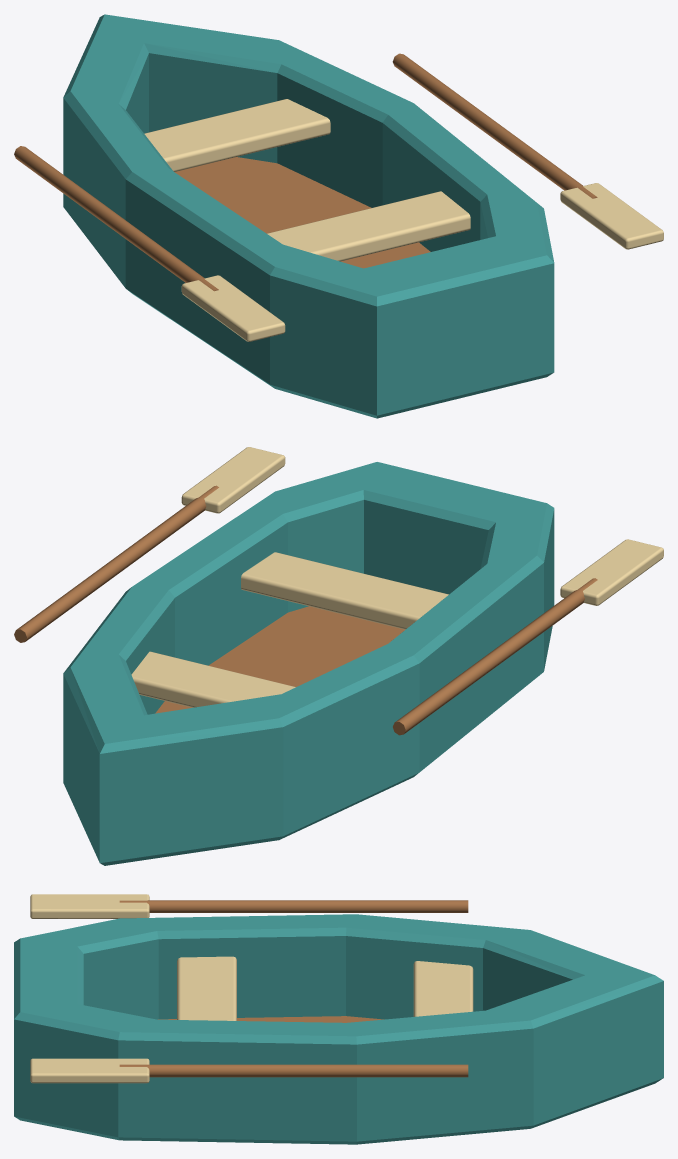
The model's file is harbor-rowboat.glb.
3 views of the same model, one above another, from view 1: azimuth 30°, elevation 25°; view 2: azimuth 150°, elevation 25°; view 3: azimuth 270°, elevation 25° (orthographic). The views are drawn at different scales.
Visible parts, largest first — view 1: teal-hull, hull-floor, seat-0.4, seat--0.55, oar-shaft--0.78, oar-shaft-0.78, oar-blade--0.78, oar-blade-0.78; view 2: teal-hull, hull-floor, seat-0.4, seat--0.55, oar-shaft-0.78, oar-shaft--0.78, oar-blade-0.78, oar-blade--0.78; view 3: teal-hull, oar-shaft-0.78, oar-shaft--0.78, seat-0.4, seat--0.55, oar-blade-0.78, oar-blade--0.78, hull-floor.
Part boxes in pixels (x1=…): teal-hull: x1=63, y1=14, x2=554, y2=418; hull-floor: x1=174, y1=157, x2=430, y2=268; seat-0.4: x1=267, y1=191, x2=470, y2=261; seat--0.55: x1=144, y1=99, x2=330, y2=171; oar-shaft--0.78: x1=14, y1=146, x2=218, y2=291; oar-shaft-0.78: x1=392, y1=53, x2=597, y2=198; oar-blade--0.78: x1=181, y1=275, x2=285, y2=341; oar-blade-0.78: x1=560, y1=183, x2=663, y2=249; teal-hull: x1=63, y1=462, x2=554, y2=865; hull-floor: x1=155, y1=606, x2=404, y2=713; seat-0.4: x1=241, y1=552, x2=448, y2=629; seat--0.55: x1=131, y1=651, x2=295, y2=707; oar-shaft-0.78: x1=14, y1=485, x2=218, y2=642; oar-shaft--0.78: x1=393, y1=578, x2=597, y2=735; oar-blade-0.78: x1=181, y1=447, x2=285, y2=513; oar-blade--0.78: x1=560, y1=539, x2=663, y2=605; teal-hull: x1=14, y1=914, x2=663, y2=1144; oar-shaft-0.78: x1=119, y1=1064, x2=468, y2=1077; oar-shaft--0.78: x1=119, y1=900, x2=468, y2=912; seat-0.4: x1=177, y1=956, x2=236, y2=1020; seat--0.55: x1=413, y1=961, x2=473, y2=1016; oar-blade-0.78: x1=30, y1=1058, x2=149, y2=1083; oar-blade--0.78: x1=30, y1=894, x2=149, y2=918; hull-floor: x1=158, y1=1016, x2=384, y2=1022.
Size of the model in its own units: 1.72 by 0.48 by 2.61.
